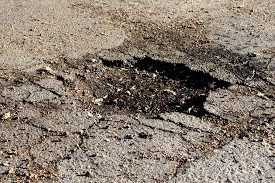pothole: (64, 54, 233, 134)
